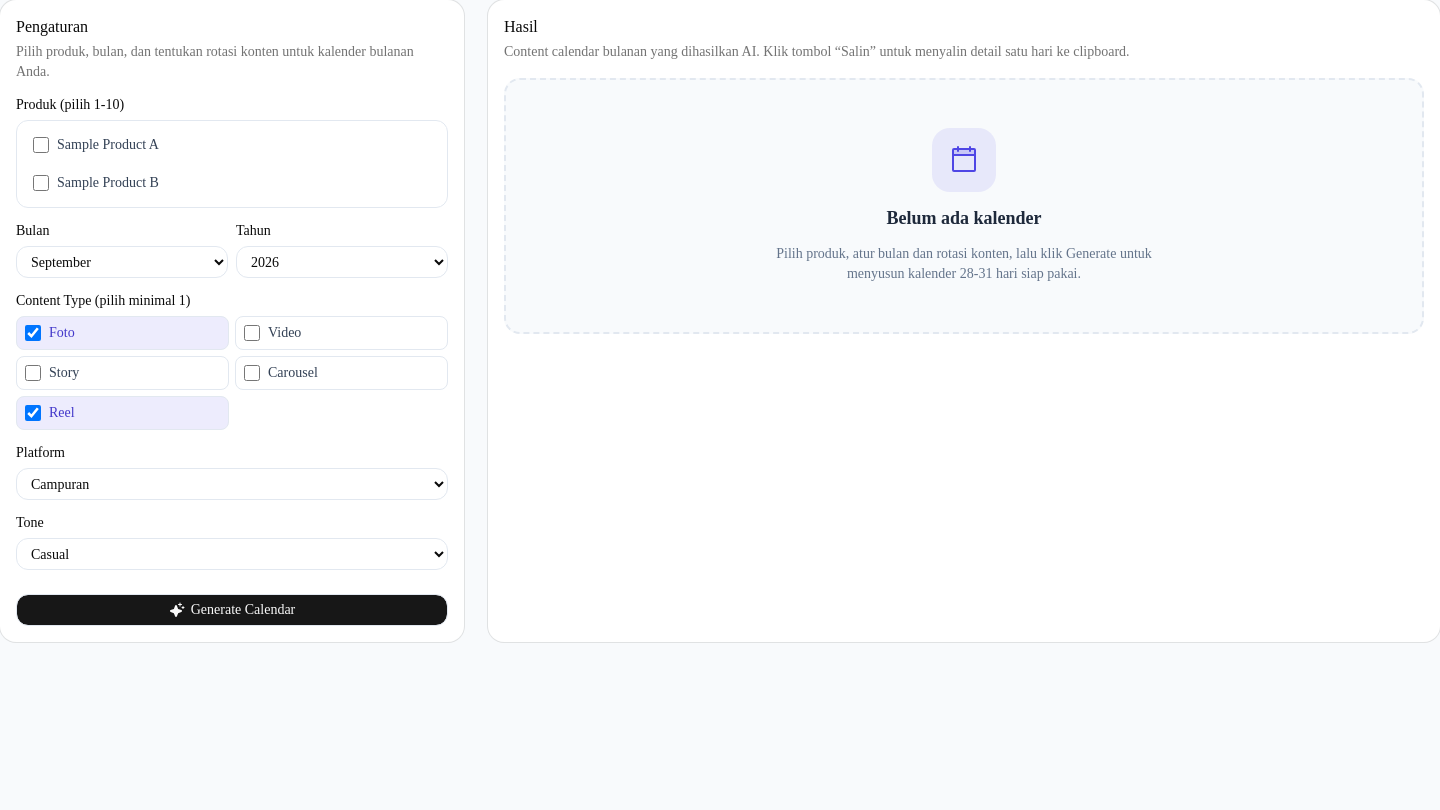
Test: CalendarGenerator › shows loading state in the result panel while generateCalendar is in flight
Expected: the text "Sample Product A" is shown, [57,135,159,155]
Step 1. Click the checkbox with test id "calendar-product-11111111-1111-1111-1111-111111111111" → (41, 145), box [33,137,49,153]
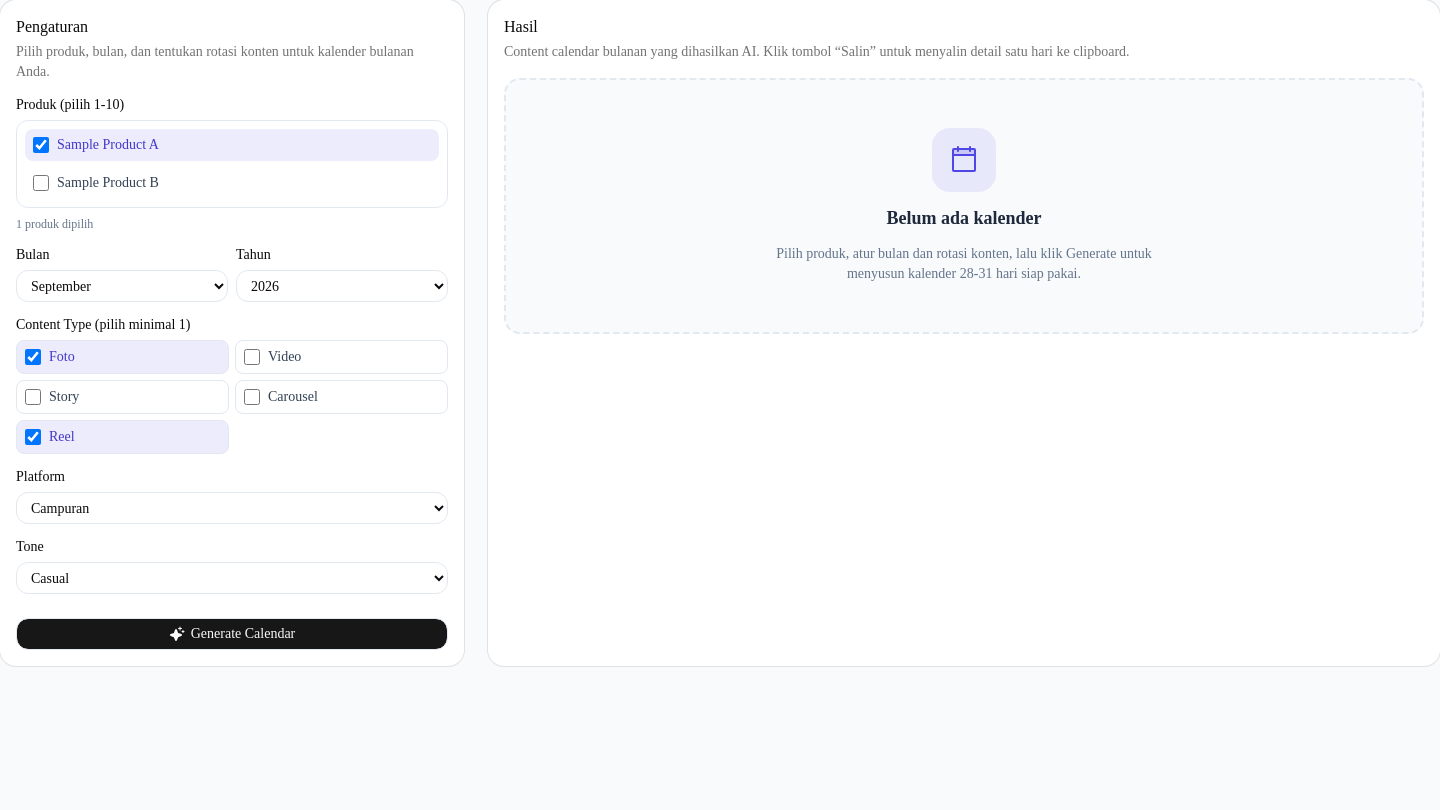
Step 2. Click the label with test id "calendar-content-type-photo" → (122, 357), box [16,340,229,374]
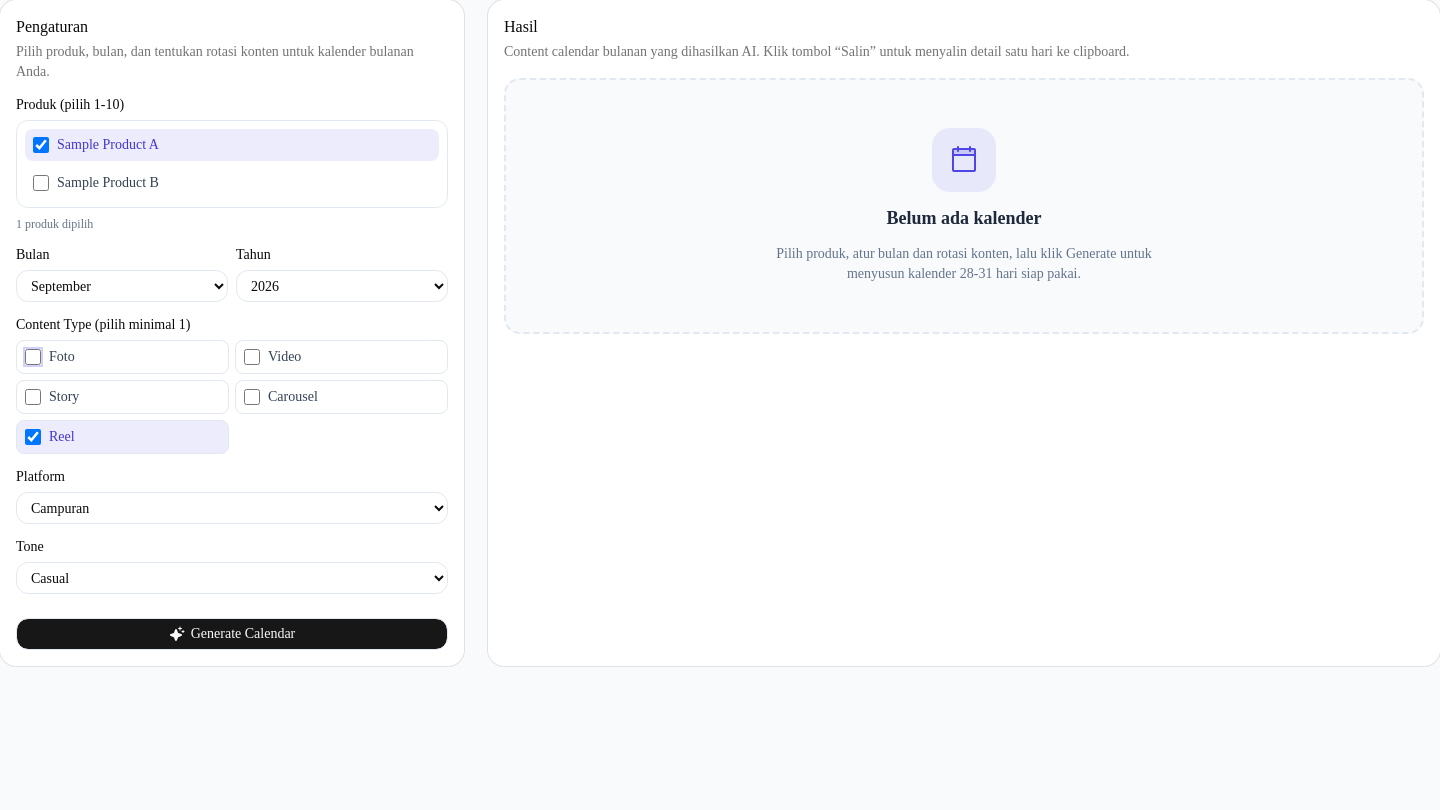
Step 3. Click the button with test id "calendar-generate" → (232, 634), box [16,618,448,650]
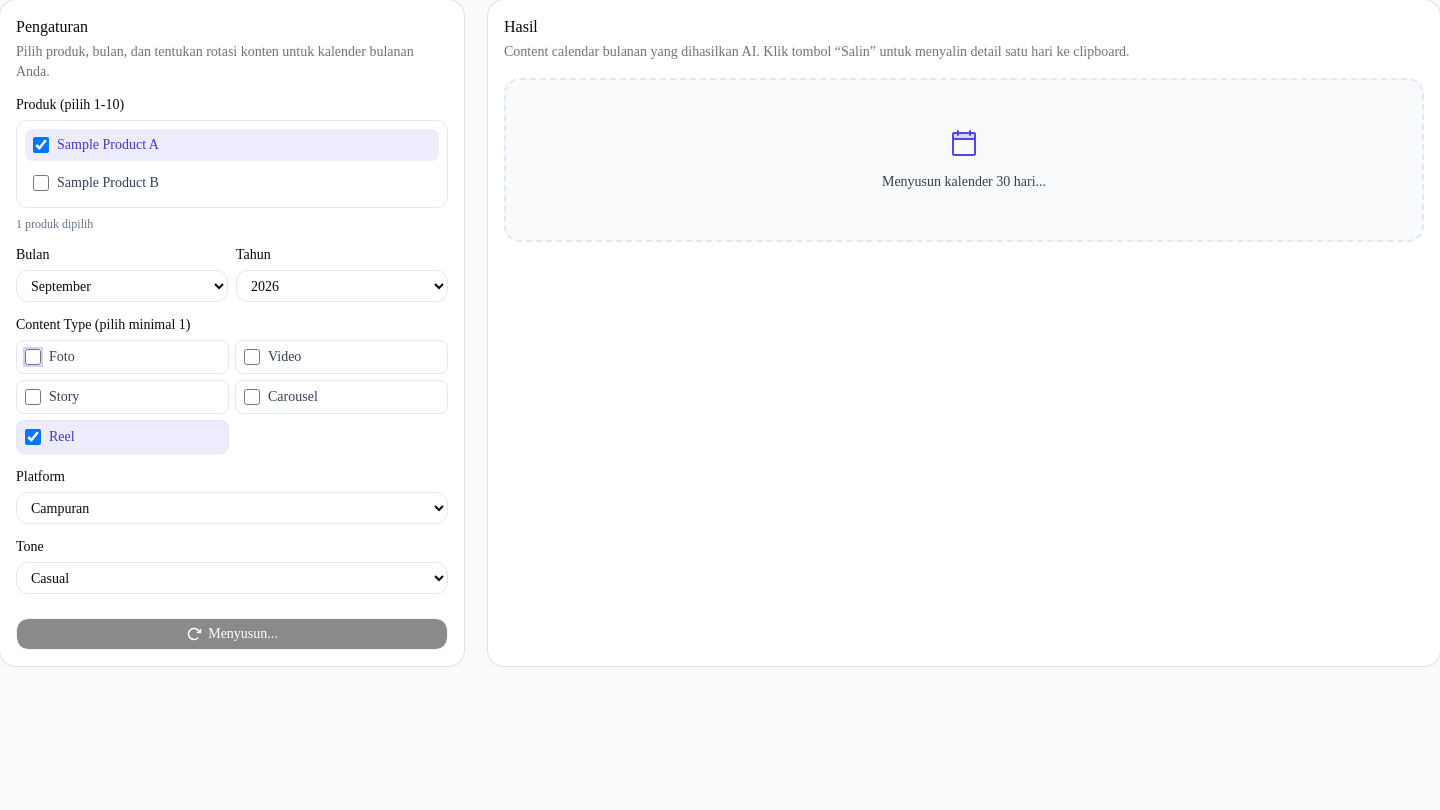
Now the element with test id "calendar-loading" is shown, box [504,78,1424,242]
Now the text "Menyusun kalender 30 hari..." is shown, box [882,172,1046,192]
